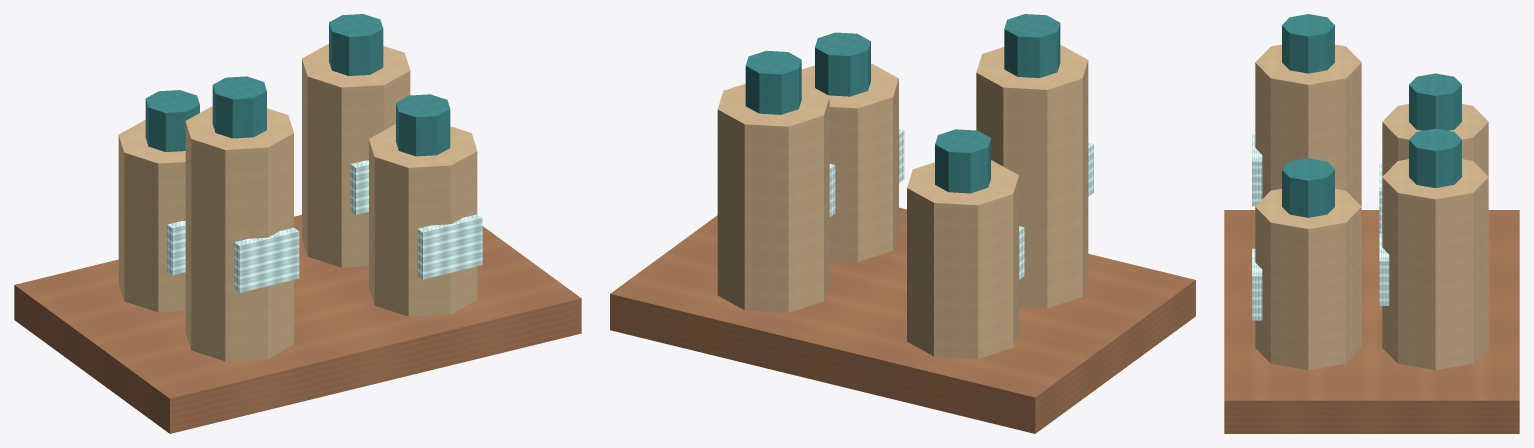
Rendered from atlas100-s091-a04.glb.
The picture shows the model from 3 angles, left to right: view 1: azimuth 30°, elevation 25°; view 2: azimuth 150°, elevation 25°; view 3: azimuth 270°, elevation 25°; orthographic projection. The views are drawn at different scales.
Visible parts, largest first — view 1: atlas100-s091-a04:part-000, atlas100-s091-a04:part-007, atlas100-s091-a04:part-010, atlas100-s091-a04:part-004, atlas100-s091-a04:part-001, atlas100-s091-a04:part-009, atlas100-s091-a04:part-012, atlas100-s091-a04:part-008, atlas100-s091-a04:part-011, atlas100-s091-a04:part-005, atlas100-s091-a04:part-002, atlas100-s091-a04:part-003 (+1 smaller); view 2: atlas100-s091-a04:part-000, atlas100-s091-a04:part-004, atlas100-s091-a04:part-007, atlas100-s091-a04:part-001, atlas100-s091-a04:part-010, atlas100-s091-a04:part-005, atlas100-s091-a04:part-008, atlas100-s091-a04:part-002, atlas100-s091-a04:part-011; view 3: atlas100-s091-a04:part-000, atlas100-s091-a04:part-004, atlas100-s091-a04:part-010, atlas100-s091-a04:part-007, atlas100-s091-a04:part-001, atlas100-s091-a04:part-011, atlas100-s091-a04:part-008, atlas100-s091-a04:part-005, atlas100-s091-a04:part-002, atlas100-s091-a04:part-012, atlas100-s091-a04:part-006, atlas100-s091-a04:part-009.
Boxes of the visible parts, x1=… form: atlas100-s091-a04:part-000: x1=14, y1=215, x2=581, y2=433; atlas100-s091-a04:part-007: x1=185, y1=106, x2=293, y2=361; atlas100-s091-a04:part-010: x1=369, y1=124, x2=477, y2=316; atlas100-s091-a04:part-004: x1=302, y1=44, x2=410, y2=267; atlas100-s091-a04:part-001: x1=118, y1=120, x2=185, y2=312; atlas100-s091-a04:part-009: x1=234, y1=227, x2=299, y2=292; atlas100-s091-a04:part-012: x1=417, y1=214, x2=482, y2=279; atlas100-s091-a04:part-008: x1=212, y1=76, x2=266, y2=138; atlas100-s091-a04:part-011: x1=396, y1=94, x2=450, y2=156; atlas100-s091-a04:part-005: x1=329, y1=14, x2=383, y2=75; atlas100-s091-a04:part-002: x1=145, y1=90, x2=199, y2=151; atlas100-s091-a04:part-003: x1=167, y1=221, x2=185, y2=275; atlas100-s091-a04:part-000: x1=610, y1=207, x2=1195, y2=433; atlas100-s091-a04:part-004: x1=717, y1=81, x2=829, y2=312; atlas100-s091-a04:part-007: x1=976, y1=45, x2=1088, y2=308; atlas100-s091-a04:part-001: x1=907, y1=160, x2=1018, y2=358; atlas100-s091-a04:part-010: x1=801, y1=63, x2=898, y2=261; atlas100-s091-a04:part-005: x1=745, y1=50, x2=801, y2=114; atlas100-s091-a04:part-008: x1=1004, y1=14, x2=1060, y2=77; atlas100-s091-a04:part-002: x1=935, y1=129, x2=990, y2=193; atlas100-s091-a04:part-011: x1=815, y1=32, x2=870, y2=96; atlas100-s091-a04:part-000: x1=1224, y1=210, x2=1519, y2=433; atlas100-s091-a04:part-004: x1=1382, y1=159, x2=1488, y2=370; atlas100-s091-a04:part-010: x1=1255, y1=189, x2=1361, y2=370; atlas100-s091-a04:part-007: x1=1255, y1=44, x2=1361, y2=205; atlas100-s091-a04:part-001: x1=1382, y1=104, x2=1488, y2=176; atlas100-s091-a04:part-011: x1=1282, y1=158, x2=1334, y2=217; atlas100-s091-a04:part-008: x1=1282, y1=14, x2=1334, y2=73; atlas100-s091-a04:part-005: x1=1409, y1=128, x2=1461, y2=187; atlas100-s091-a04:part-002: x1=1409, y1=73, x2=1461, y2=130; atlas100-s091-a04:part-012: x1=1252, y1=248, x2=1262, y2=320; atlas100-s091-a04:part-006: x1=1379, y1=233, x2=1389, y2=305; atlas100-s091-a04:part-009: x1=1252, y1=134, x2=1262, y2=206.
Size of the model in its own units: 1.18 by 0.7804 by 0.7697.
4 materials, 4 textured.
